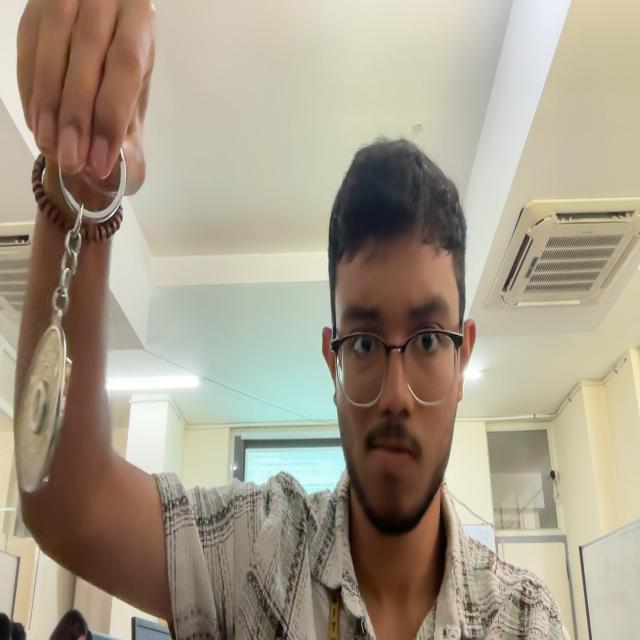dangerous: (14, 149, 126, 492)
